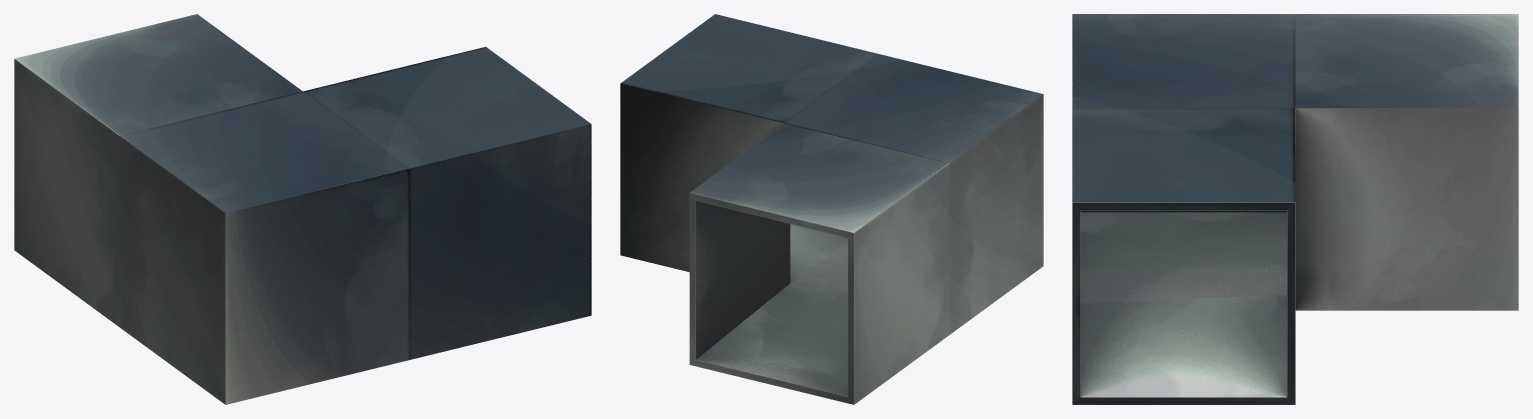
File: Cell_L.fbx
3 renders of one model, left to right at view 1: azimuth 30°, elevation 25°; view 2: azimuth 150°, elevation 25°; view 3: azimuth 270°, elevation 25°, orthographic. The views are drawn at different scales.
Parts seen in each view (by area): view 1: Cube.004; view 2: Cube.004; view 3: Cube.004.
Part boxes in pixels (x1,y1,x2,y2): Cube.004: [14, 14, 591, 404]; Cube.004: [620, 14, 1043, 404]; Cube.004: [1072, 14, 1518, 404].
Size of the model in its own units: 400 by 200 by 400.
